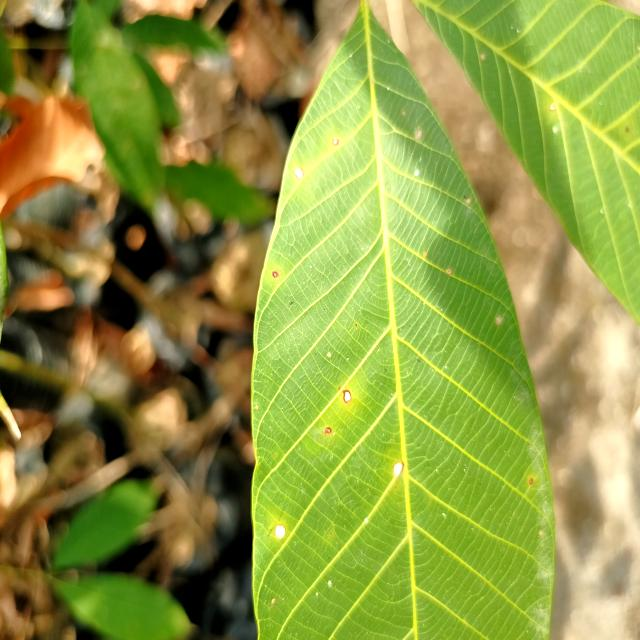Colletotrichum: (274, 524, 286, 538), (393, 460, 404, 475), (294, 168, 304, 180), (343, 390, 351, 403), (324, 427, 332, 434), (272, 271, 278, 278), (332, 139, 339, 145)
